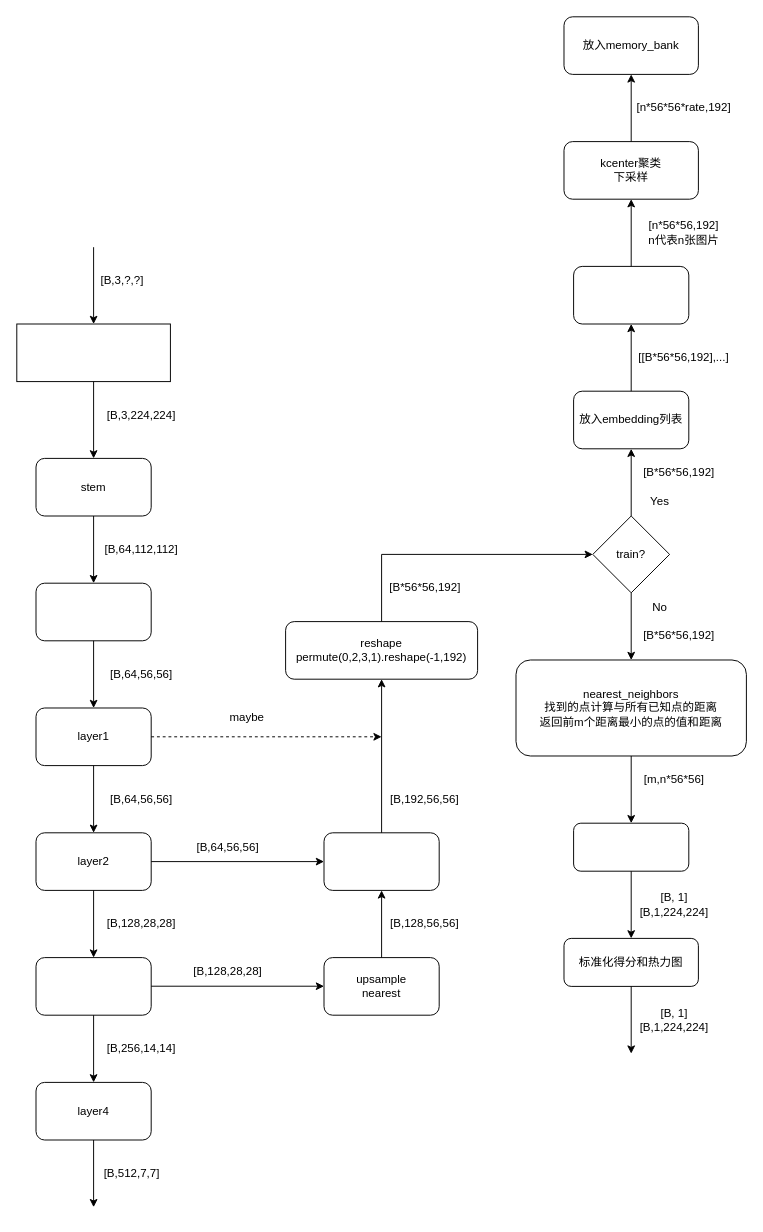
Image size: 763x1232. Some labels were removed from this diagram. Each missing label, with the box of its shape:
concat: (323, 832, 439, 890)
layer3: (35, 957, 151, 1015)
pool: (35, 582, 151, 641)
图片预处理: (16, 323, 170, 382)
拼接embedding: (573, 265, 689, 324)
计算得分和热力图: (573, 822, 689, 871)
